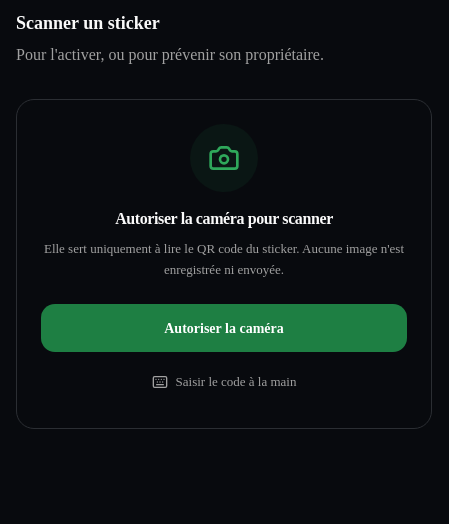
ScanPage › falls back to the code entry when the decoder cannot be fetched
Click the button "Autoriser la caméra" at (224, 328), box [41,304,407,352]
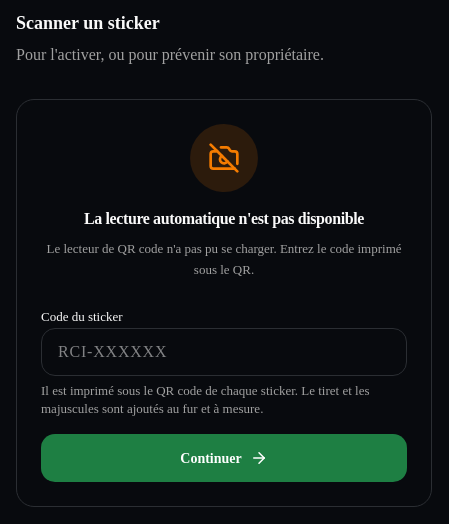
Check: the heading "La lecture automatique n'est pas disponible" is shown, box [84,210,364,227]
Check: the field labelled "Code du sticker" is shown, box [41,328,407,376]
